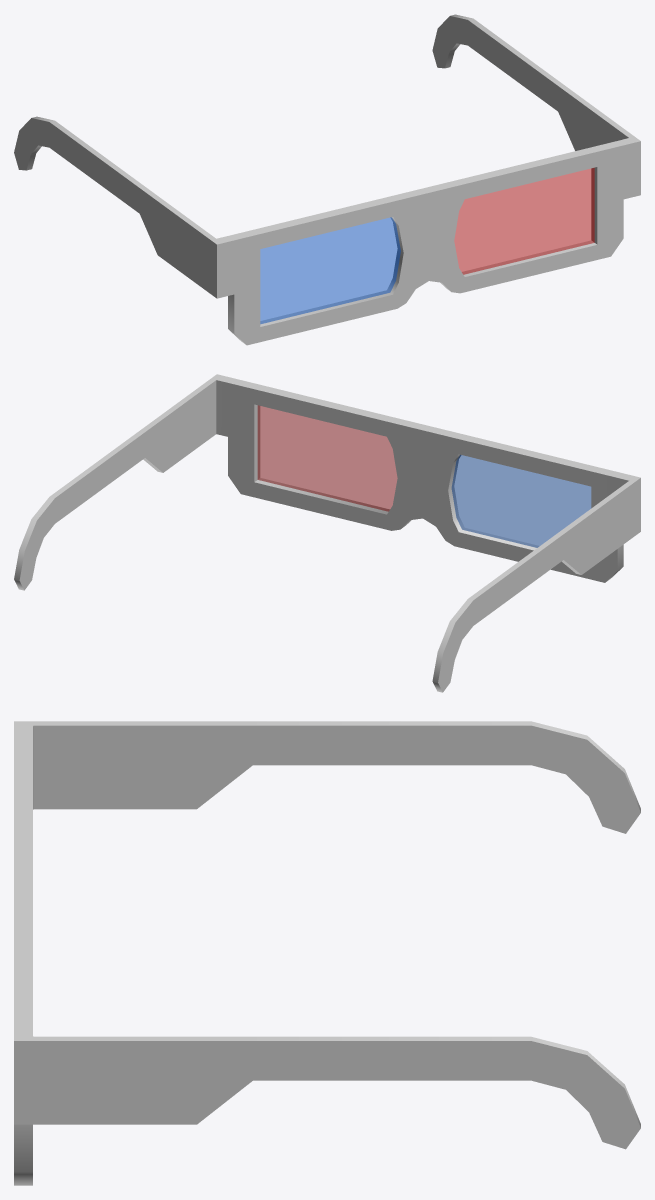
The model's file is 3DGlasses.fbx.
3 renders of one model, top to bottom at view 1: azimuth 30°, elevation 25°; view 2: azimuth 150°, elevation 25°; view 3: azimuth 270°, elevation 25°, orthographic. The views are drawn at different scales.
Visible parts, largest first — view 1: 3DGlasses; view 2: 3DGlasses; view 3: 3DGlasses.
Boxes of the visible parts, x1=… form: 3DGlasses: x1=14, y1=14, x2=640, y2=345; 3DGlasses: x1=14, y1=374, x2=640, y2=692; 3DGlasses: x1=14, y1=721, x2=640, y2=1185.
Bounding box in the file's own units: 69.75 × 17.01 × 57.82.
